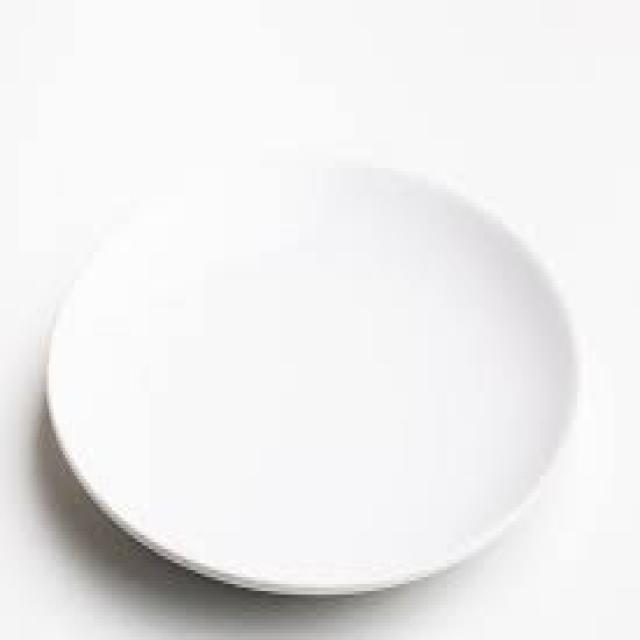Plate: (33, 145, 584, 609)
